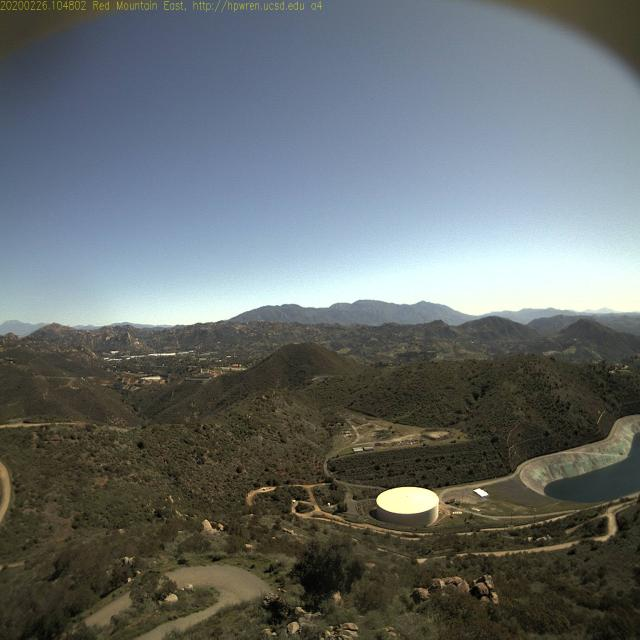smoke: (200, 317, 237, 348)
